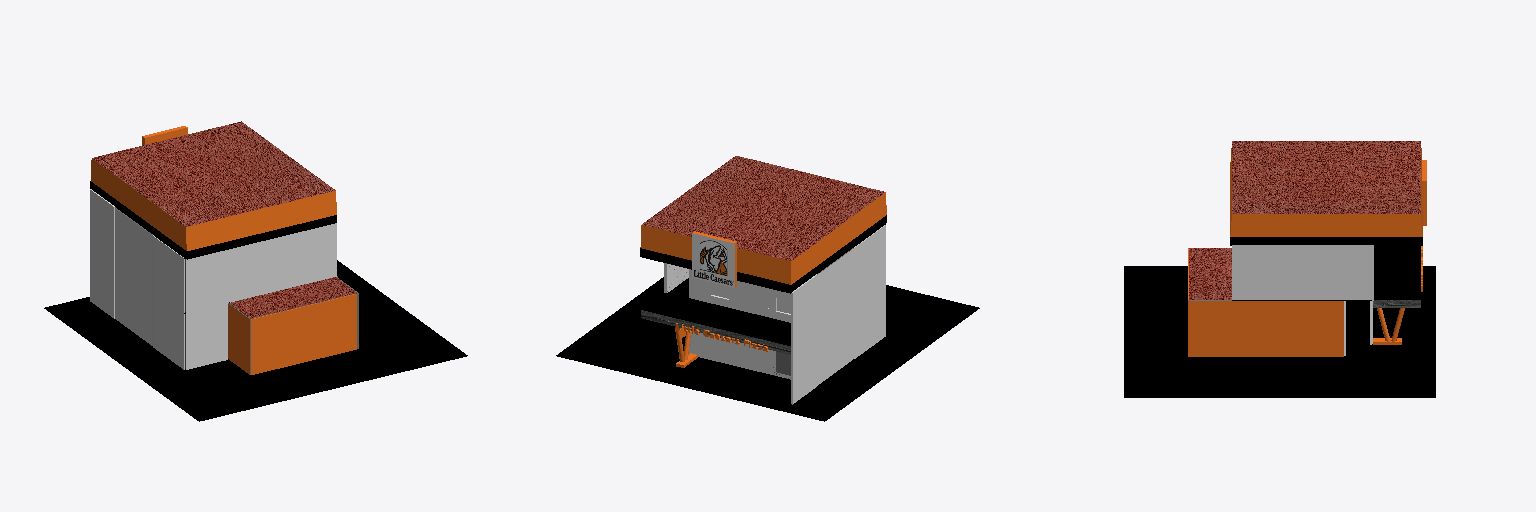
3 views of the same model, side by side, from view 1: azimuth 30°, elevation 25°; view 2: azimuth 150°, elevation 25°; view 3: azimuth 270°, elevation 25° (orthographic).
Parts seen in each view (by area): view 1: Techo_Cocina1; view 2: Techo_Cocina1; view 3: Techo_Cocina1.
Part boxes in pixels (x1,y1,x2,y2): Techo_Cocina1: (44, 121, 467, 421); Techo_Cocina1: (556, 156, 979, 421); Techo_Cocina1: (1124, 141, 1435, 397).
Bounding box in the file's own units: 25.28 × 13.63 × 25.28.
Materials: 16 (7 with a texture image).